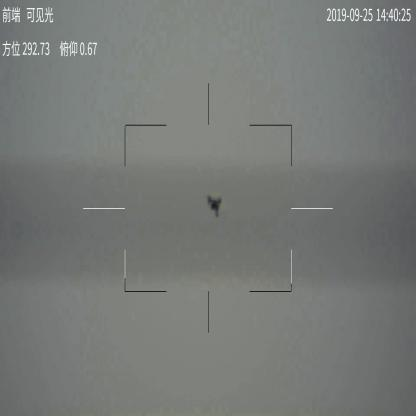uav: (209, 194, 227, 217)
